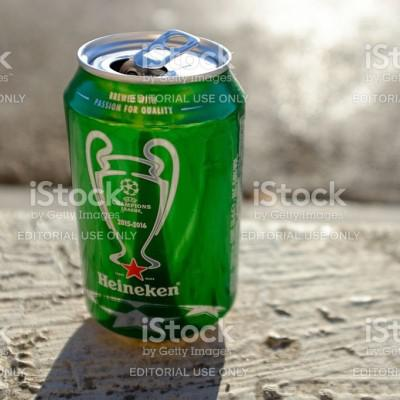beer: (62, 28, 247, 344)
